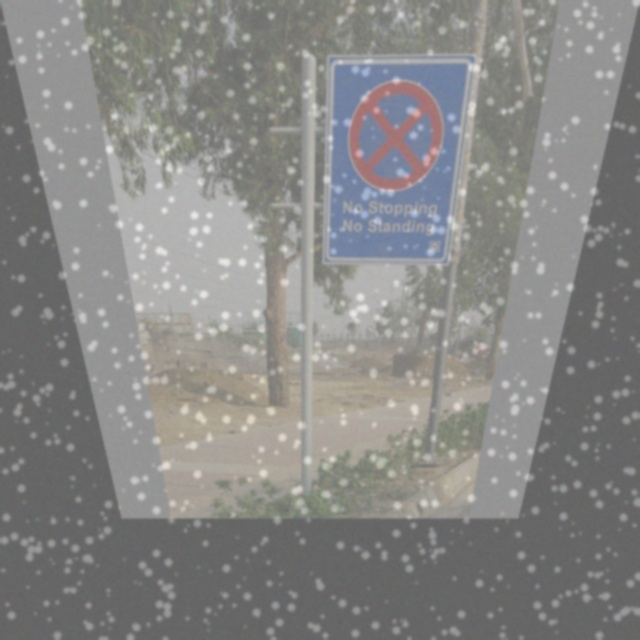No_Stopping_or_Standing: (339, 63, 456, 196)
